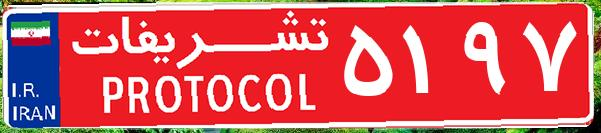1: (400, 20, 460, 115)
5: (340, 20, 400, 115)
7: (520, 20, 580, 115)
9: (460, 20, 520, 115)
تشریفات: (60, 8, 340, 125)
